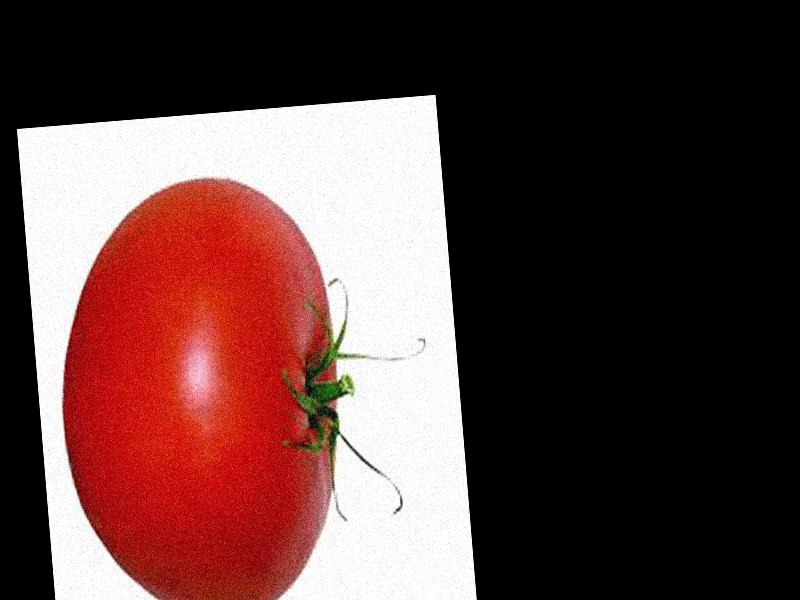Tomato: (46, 165, 357, 600)
